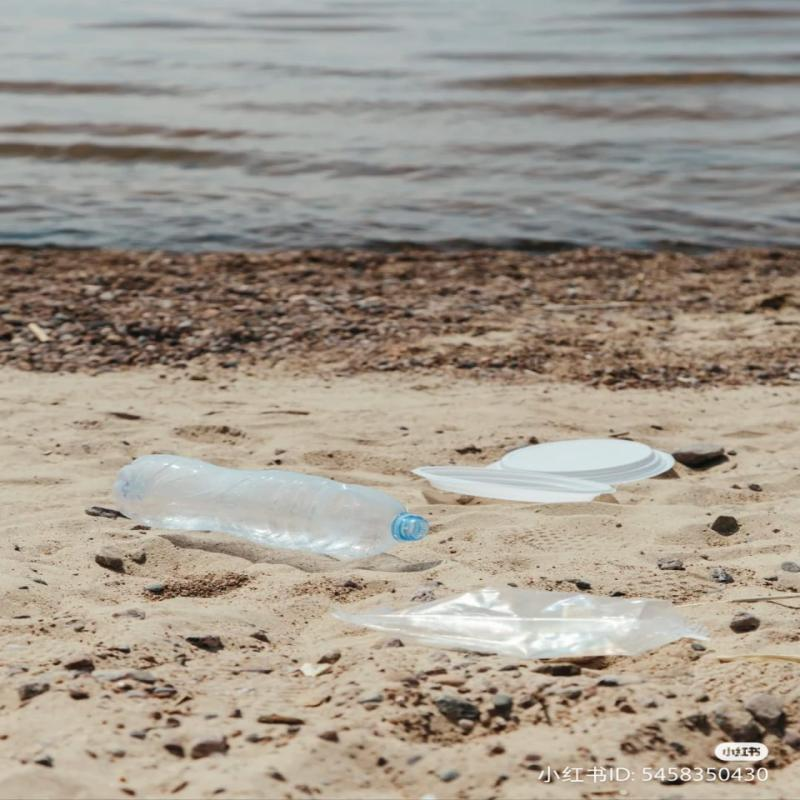botella: (106, 446, 428, 578)
